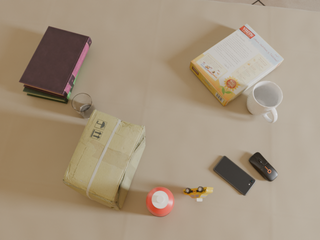book: (19, 26, 92, 98)
bottle: (146, 187, 174, 217)
box: (63, 109, 145, 211), (190, 24, 283, 106)
cup: (247, 81, 282, 123), (72, 93, 96, 119)
mouse: (249, 152, 278, 181)
phone: (213, 156, 256, 195)
toy_car: (183, 187, 213, 201)
